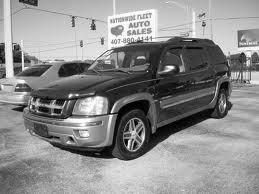car: (21, 36, 236, 163)
